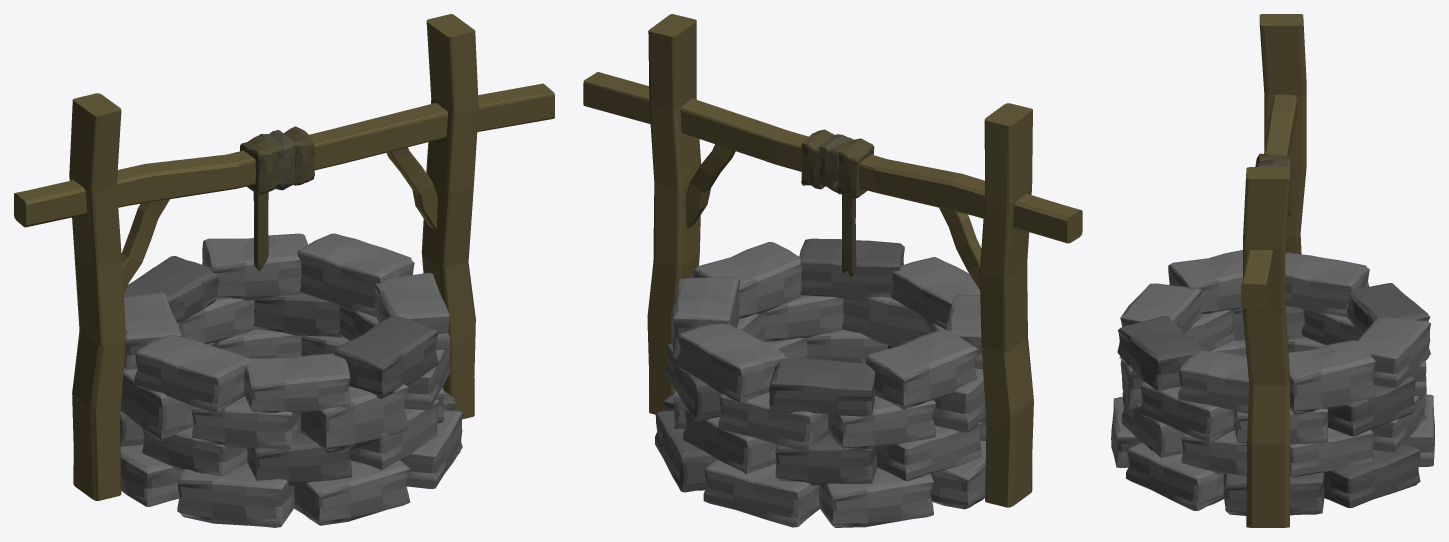
File: Well.fbx
The picture shows the model from 3 angles, left to right: view 1: azimuth 30°, elevation 25°; view 2: azimuth 150°, elevation 25°; view 3: azimuth 270°, elevation 25°; orthographic projection. The views are drawn at different scales.
Visible parts, largest first — view 1: Куб, Куб_4, Куб_1, Куб_2_3, Куб_1_2, Куб_5_4, Куб_5, Куб_2_2, Куб_4_2, Куб_2_6, Куб_2_4, Куб_5_2 (+22 smaller); view 2: Куб, Куб_4, Куб_1, Куб_6, Куб_4_2, Куб_3_2, Куб_2_2, Куб_3_6, Куб_6_4, Куб_7, Куб_6_2, Куб_3_3 (+20 smaller); view 3: Куб_1, Куб, Куб_1_2, Куб_6, Куб_2_2, Куб_7_4, Куб_4_6, Куб_4_2, Куб_7, Куб_4, Куб_2_3, Куб_7_2 (+18 smaller).
Boxes of the visible parts, x1,y1,x2,y2 form: Куб: (69, 93, 126, 500); Куб_4: (14, 83, 554, 227); Куб_1: (421, 14, 478, 419); Куб_2_3: (134, 334, 251, 413); Куб_1_2: (297, 233, 414, 317); Куб_5_4: (177, 463, 294, 527); Куб_5: (243, 353, 350, 413); Куб_2_2: (334, 315, 438, 398); Куб_4_2: (202, 233, 307, 300); Куб_2_6: (294, 460, 410, 525); Куб_2_4: (300, 384, 408, 453); Куб_5_2: (192, 395, 300, 449); Куб: (979, 103, 1033, 507); Куб_4: (583, 72, 1082, 243); Куб_1: (647, 14, 700, 414); Куб_6: (865, 329, 978, 409); Куб_4_2: (677, 324, 786, 403); Куб_3_2: (769, 358, 875, 416); Куб_2_2: (799, 238, 904, 300); Куб_3_6: (703, 459, 819, 527); Куб_6_4: (819, 467, 933, 527); Куб_7: (693, 242, 802, 319); Куб_6_2: (828, 395, 936, 451); Куб_3_3: (718, 392, 828, 451); Куб_1: (1243, 167, 1289, 527); Куб: (1259, 14, 1306, 254); Куб_1_2: (1288, 340, 1375, 414); Куб_6: (1285, 252, 1369, 317); Куб_2_2: (1117, 316, 1203, 391); Куб_7_4: (1126, 443, 1223, 510); Куб_4_6: (1323, 443, 1420, 508); Куб_4_2: (1356, 316, 1430, 388); Куб_7: (1178, 350, 1248, 413); Куб_4: (1241, 94, 1296, 308); Куб_2_3: (1168, 250, 1242, 314); Куб_7_2: (1139, 382, 1234, 442).
Size of the model in its own units: 849 by 623 by 515.
